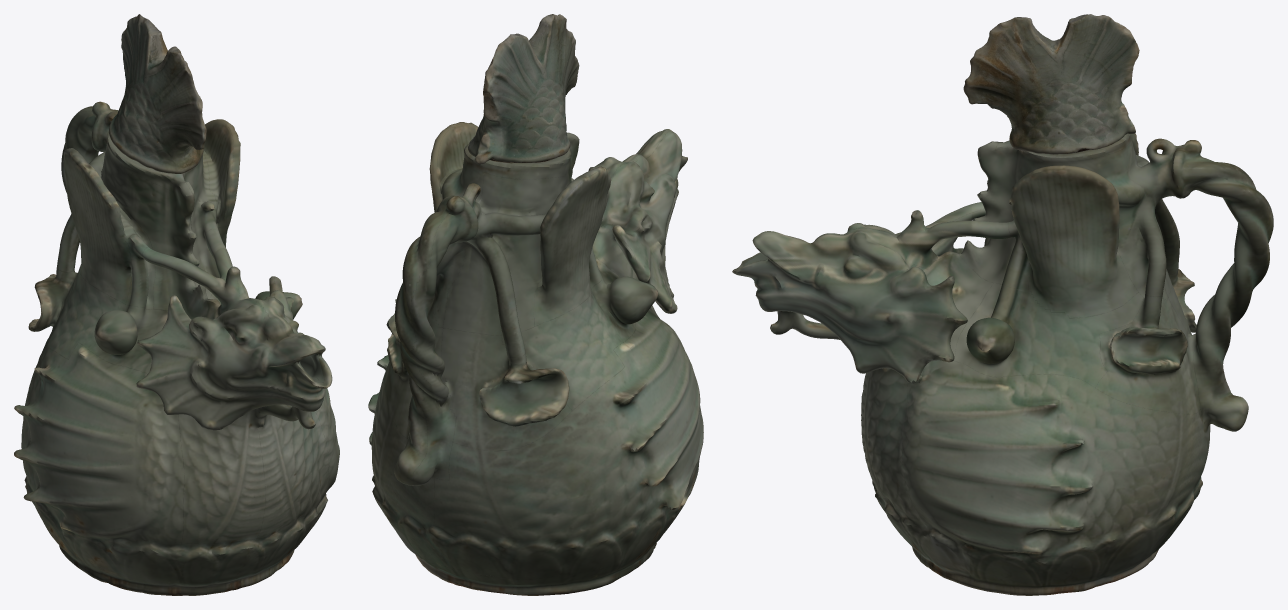
The model's file is observation-4.glb.
The picture shows the model from 3 angles, left to right: view 1: azimuth 30°, elevation 25°; view 2: azimuth 150°, elevation 25°; view 3: azimuth 270°, elevation 25°; orthographic projection. The views are drawn at different scales.
Visible parts, largest first — view 1: gae000002-001-30000, gae000002-002-30000; view 2: gae000002-001-30000, gae000002-002-30000; view 3: gae000002-001-30000, gae000002-002-30000.
Boxes of the visible parts, left/top/right/bottom form: gae000002-001-30000: left=14, top=101, right=339, bottom=595; gae000002-002-30000: left=109, top=14, right=206, bottom=173; gae000002-001-30000: left=368, top=122, right=703, bottom=595; gae000002-002-30000: left=468, top=14, right=579, bottom=163; gae000002-001-30000: left=732, top=133, right=1273, bottom=595; gae000002-002-30000: left=963, top=14, right=1139, bottom=154.
Bounding box in the file's own units: 1.28 × 2.2 × 2.02.
Materials: 2 (2 with a texture image).
